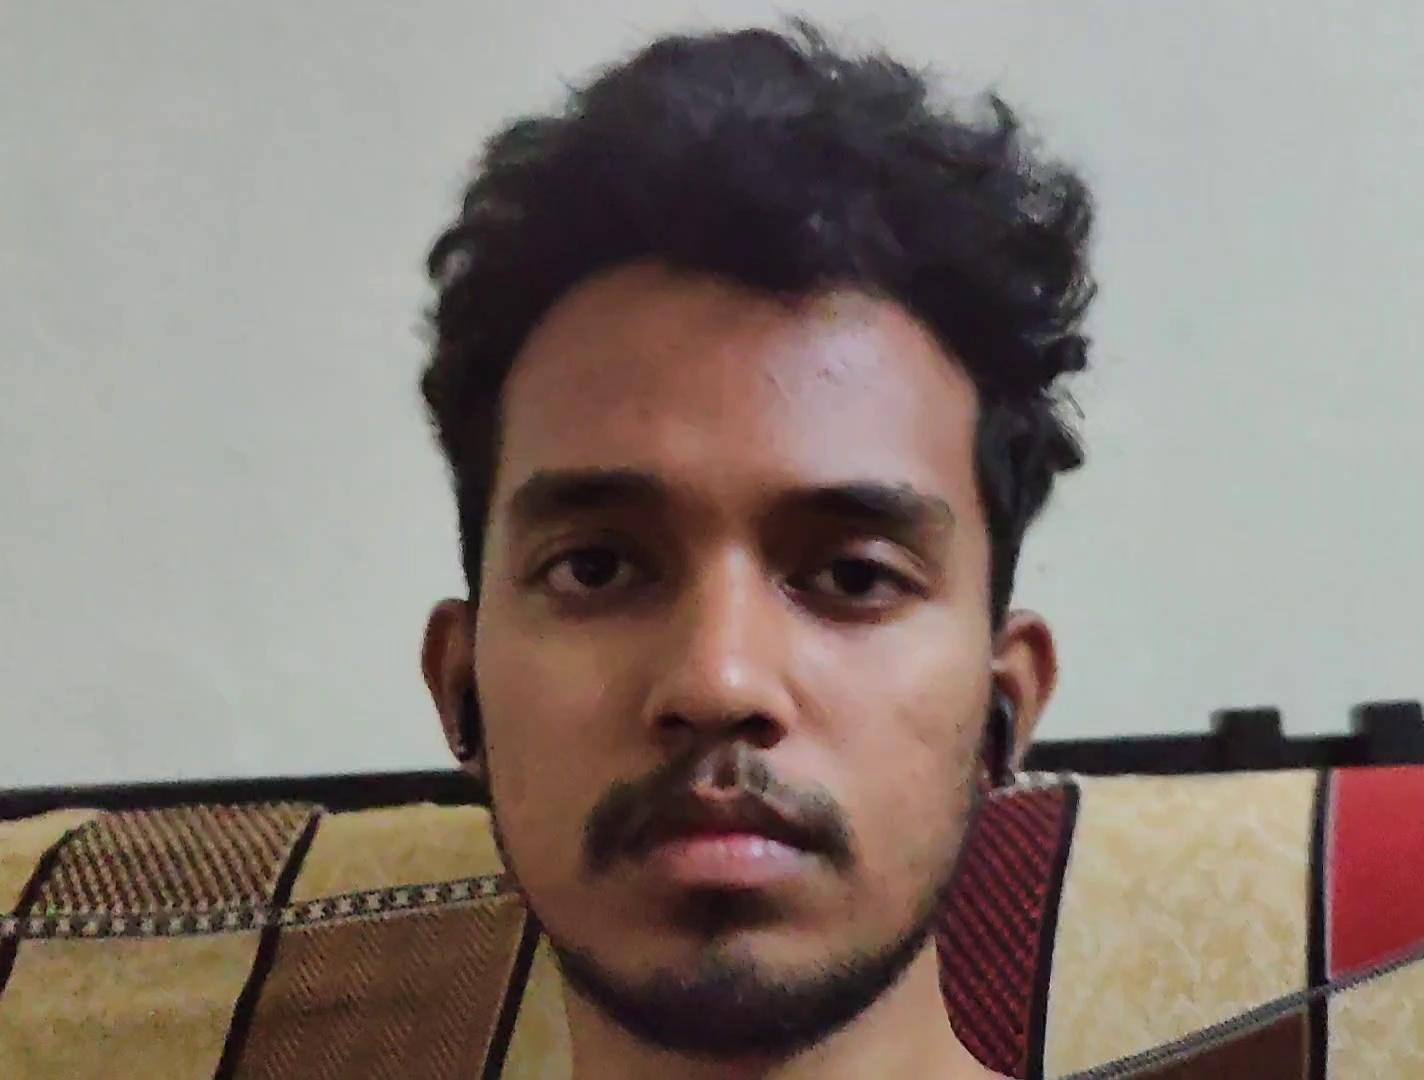face: (472, 268, 996, 1013)
